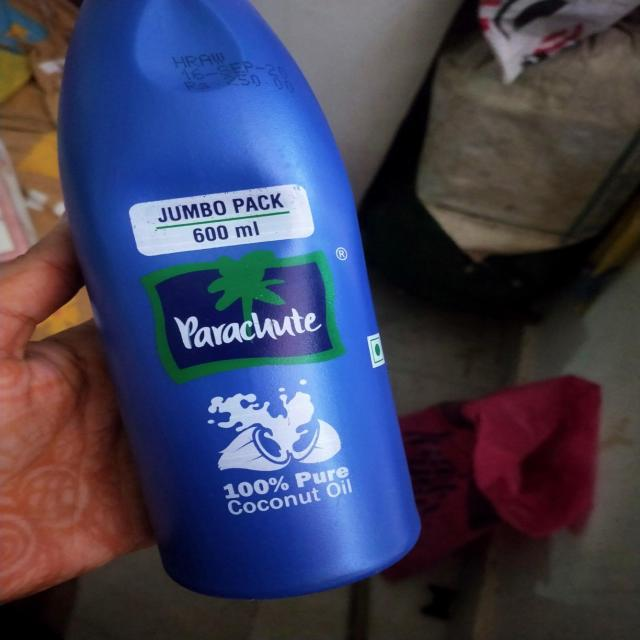parachute_oil: (27, 1, 444, 604)
